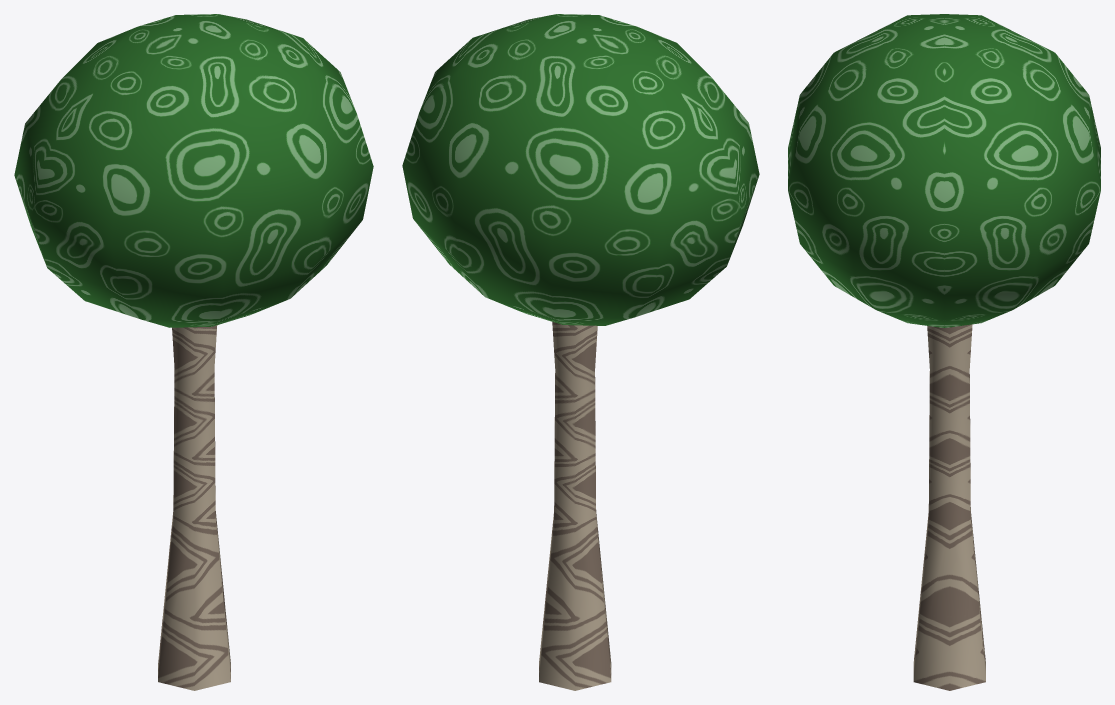
Rendered from S_Tree_A.fbx.
3 renders of one model, left to right at view 1: azimuth 30°, elevation 25°; view 2: azimuth 150°, elevation 25°; view 3: azimuth 270°, elevation 25°, orthographic.
Visible parts, largest first — view 1: S_Tree_A_m; view 2: S_Tree_A_m; view 3: S_Tree_A_m.
Part boxes in pixels (box(x1,y1,x2,y2)): S_Tree_A_m: box(14, 14, 373, 690); S_Tree_A_m: box(402, 14, 759, 690); S_Tree_A_m: box(788, 14, 1100, 690).
Size of the model in its own units: 19.91 by 37.91 by 16.74.
